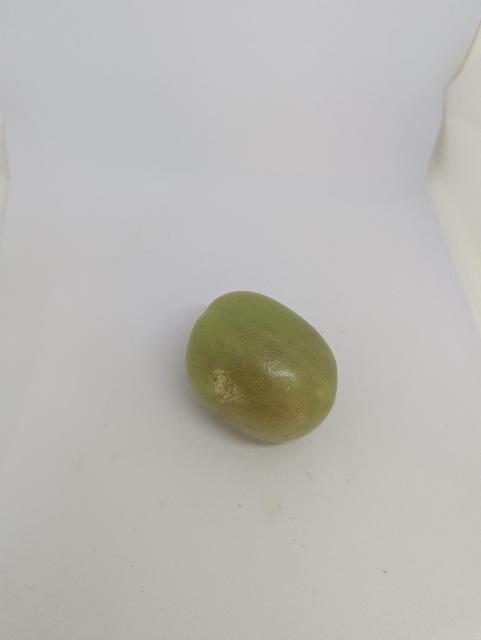green: (176, 279, 356, 453)
